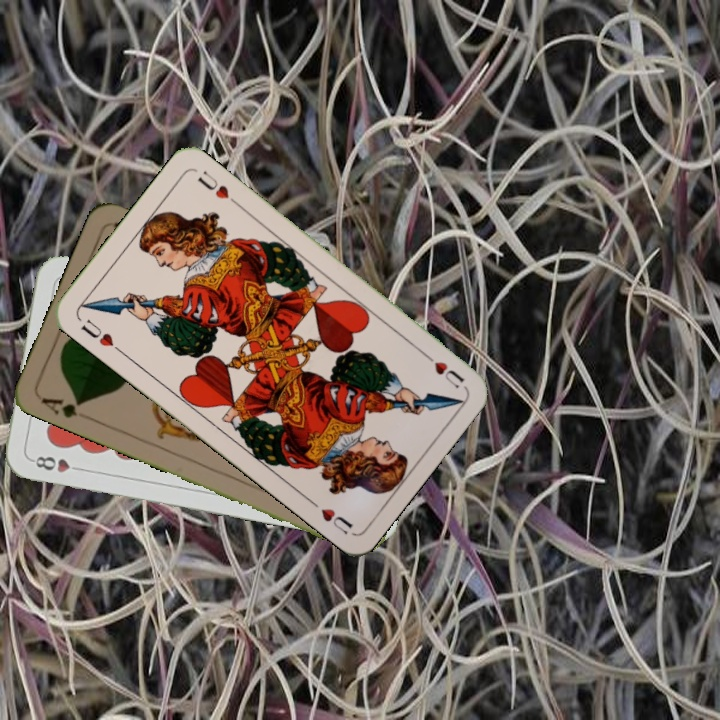GA: (37, 393, 85, 421)
H8: (27, 452, 86, 475)
HU: (418, 347, 467, 391), (77, 315, 125, 356)
